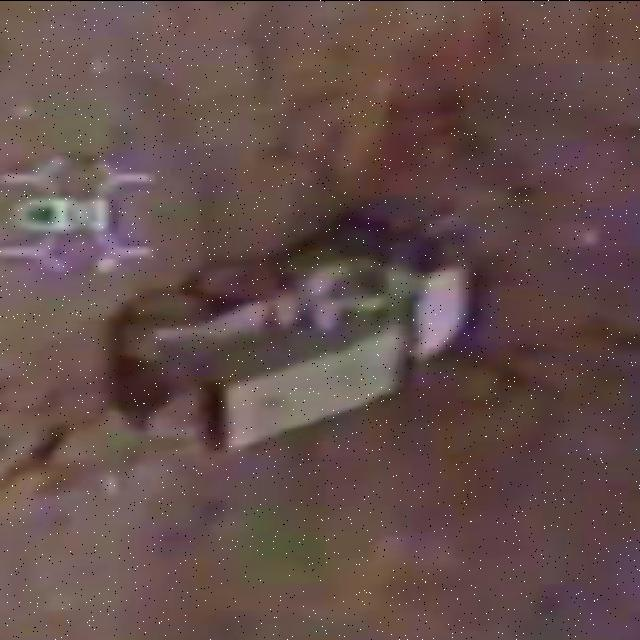MLRS: (101, 205, 491, 449)
